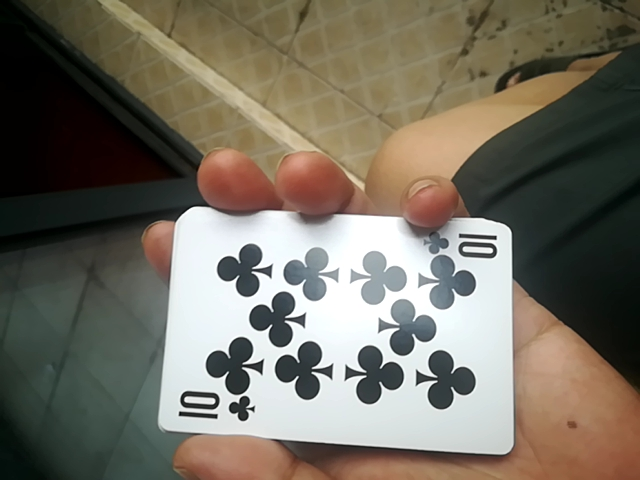mh 10: (158, 202, 524, 456)
